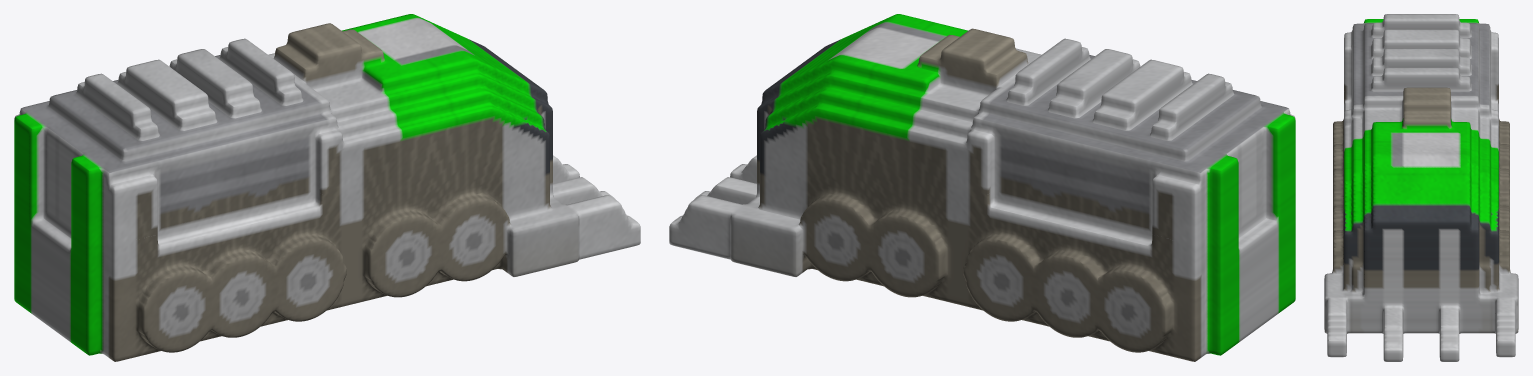
The model's file is harvester.glb.
3 renders of one model, left to right at view 1: azimuth 30°, elevation 25°; view 2: azimuth 150°, elevation 25°; view 3: azimuth 270°, elevation 25°, orthographic. The views are drawn at different scales.
Parts seen in each view (by area): view 1: harvester; view 2: harvester; view 3: harvester.
Part boxes in pixels (<box>): harvester: <box>14,14,640,361</box>; harvester: <box>669,14,1295,361</box>; harvester: <box>1324,14,1518,361</box>.
Bounding box in the file's own units: 1.33 × 0.5175 × 0.5391.
